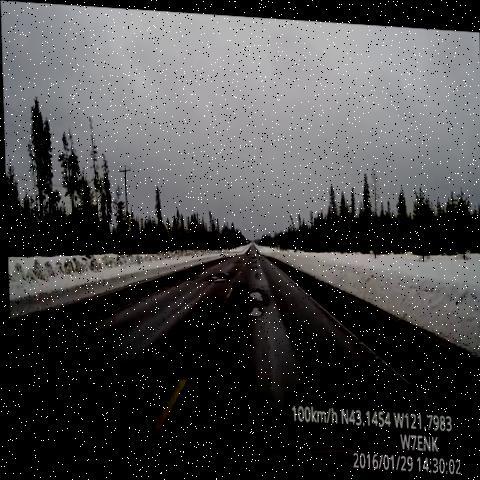pothole: (240, 295, 267, 324), (238, 278, 267, 300), (202, 263, 228, 285), (247, 249, 262, 276), (228, 248, 245, 267)
